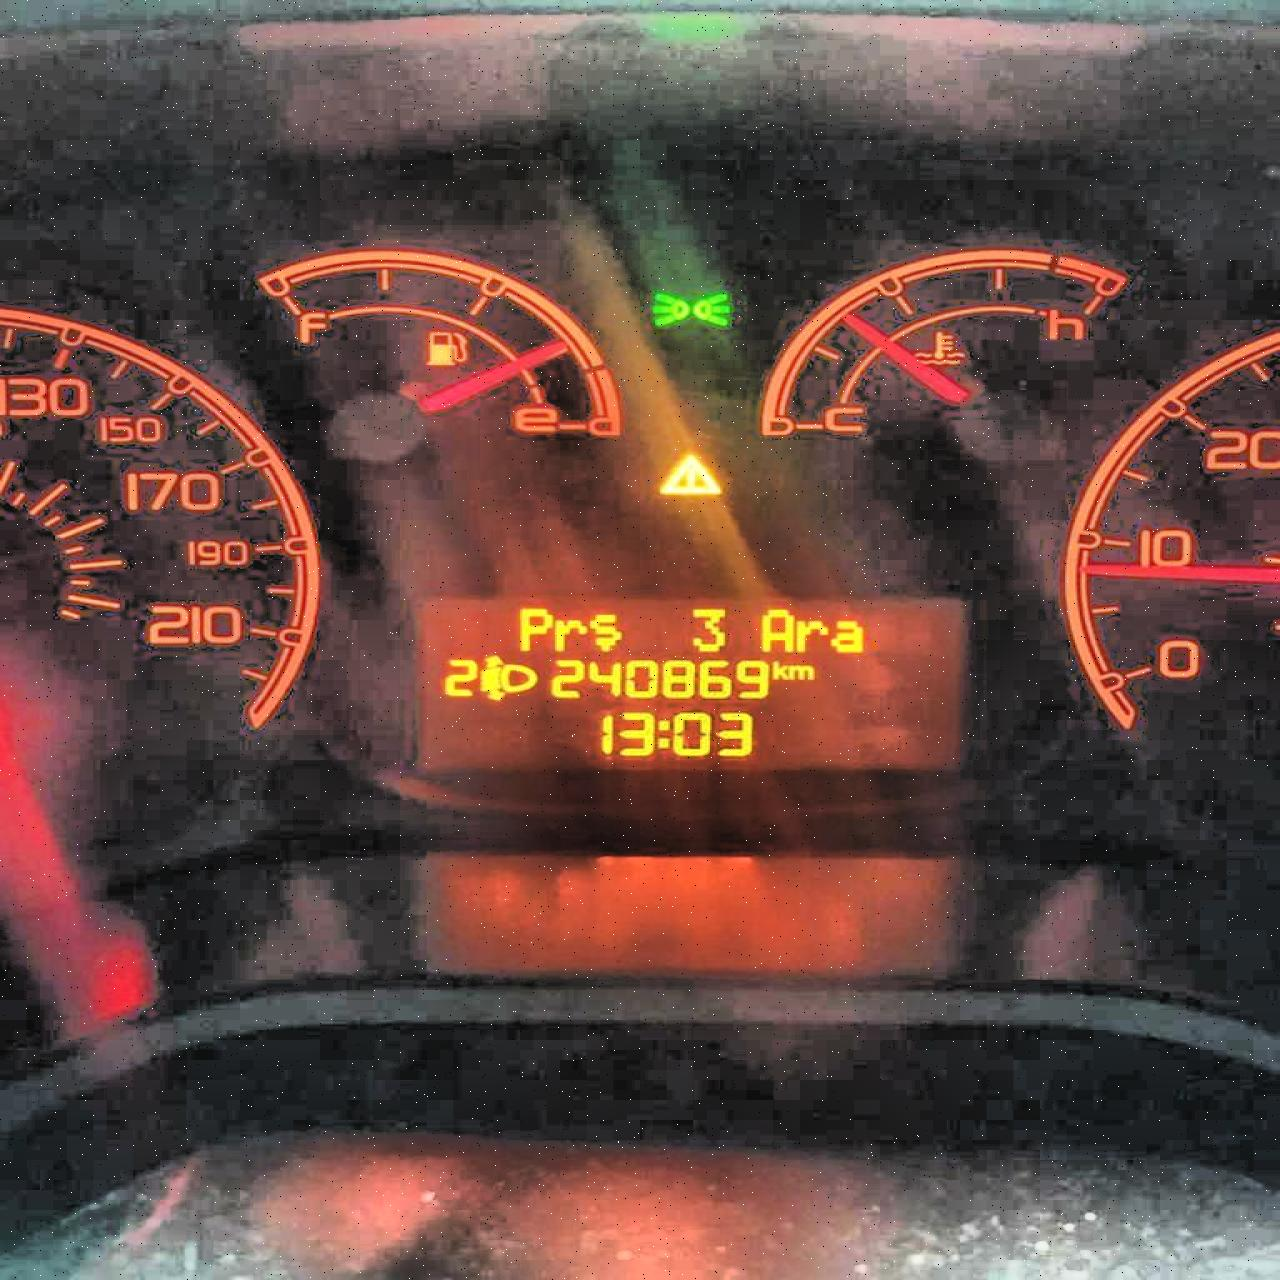0: (670, 708, 712, 757), (621, 656, 659, 699)
1: (594, 709, 613, 756)
2: (440, 656, 478, 697), (546, 658, 585, 699)
3: (685, 604, 728, 653), (713, 710, 755, 757), (617, 708, 655, 757)
4: (585, 658, 621, 696)
6: (696, 658, 731, 700)
8: (660, 656, 695, 700)
9: (734, 656, 770, 700)
X: (513, 604, 552, 653), (757, 605, 795, 654), (588, 610, 624, 651), (829, 617, 865, 654), (550, 615, 588, 651), (794, 617, 826, 653), (787, 662, 816, 680), (655, 716, 670, 748), (770, 658, 787, 680)
odometer: (410, 587, 968, 776)
